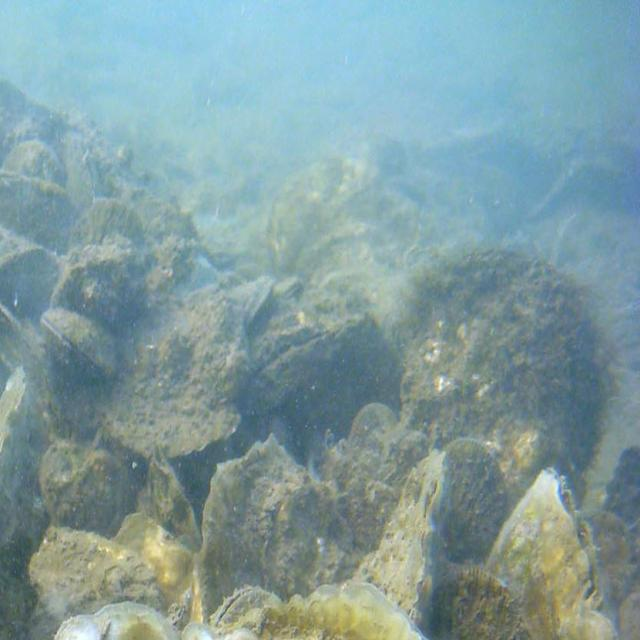Oyster-Closed: (485, 469, 614, 640), (241, 316, 369, 417), (263, 189, 328, 263), (212, 584, 284, 625), (273, 279, 303, 300)
Oyster-Indeterminate: (377, 241, 617, 526), (193, 432, 358, 622), (94, 287, 248, 453), (298, 265, 404, 469), (349, 452, 449, 640), (34, 527, 168, 617), (220, 582, 426, 640), (322, 442, 400, 563), (39, 441, 136, 537), (58, 599, 259, 640), (111, 513, 199, 604), (431, 566, 529, 640), (48, 243, 131, 328), (446, 442, 502, 562), (0, 169, 78, 255), (65, 199, 143, 279), (42, 308, 120, 386), (146, 451, 199, 551), (0, 367, 29, 544), (587, 509, 635, 607), (0, 247, 62, 322), (6, 143, 64, 188), (352, 405, 397, 454), (231, 277, 275, 325)
Oyster-Open: (338, 177, 424, 248)
